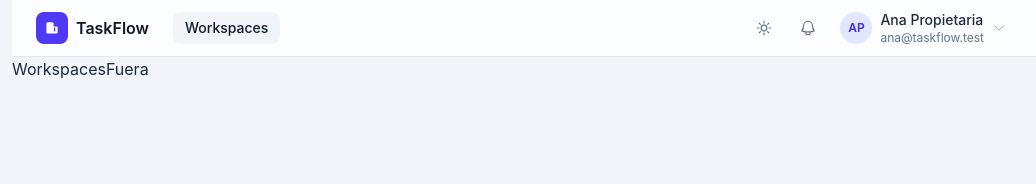
Test: Layout › navigates to the security settings from the user menu
Step 1. Click the button with aria-label "Menú de Ana Propietaria" → (923, 28), box [834, 6, 1012, 50]
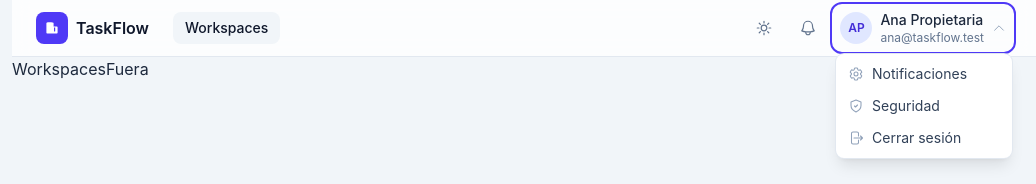
Step 2. Click the menu item "Seguridad" → (894, 106), box [848, 97, 940, 114]
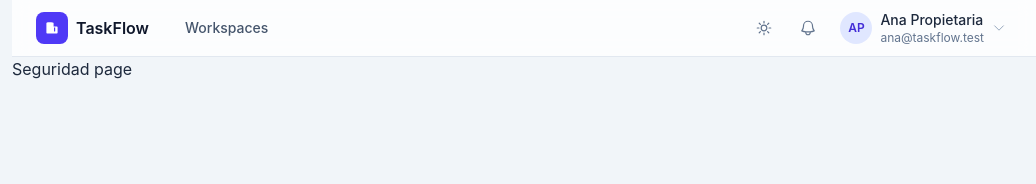
Check: the text "Seguridad page" is shown, box [12, 59, 132, 79]
